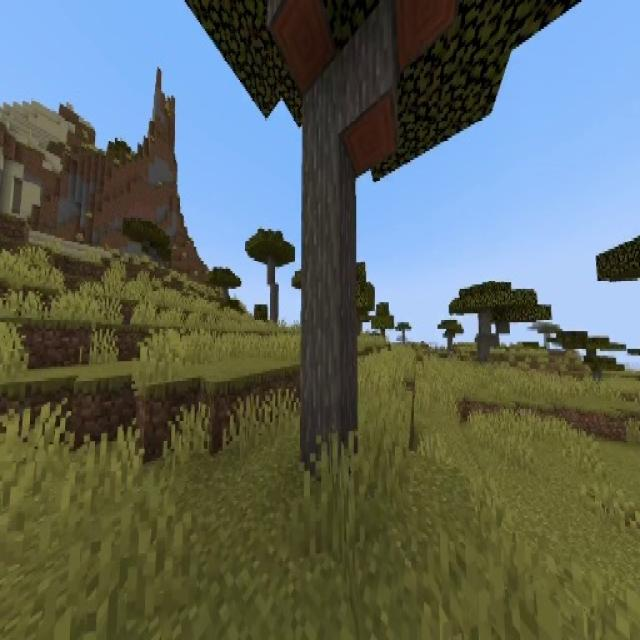acacia: (245, 229, 294, 326), (479, 312, 492, 361)
acacia_log: (303, 17, 384, 477), (451, 280, 551, 364), (267, 262, 279, 324)
